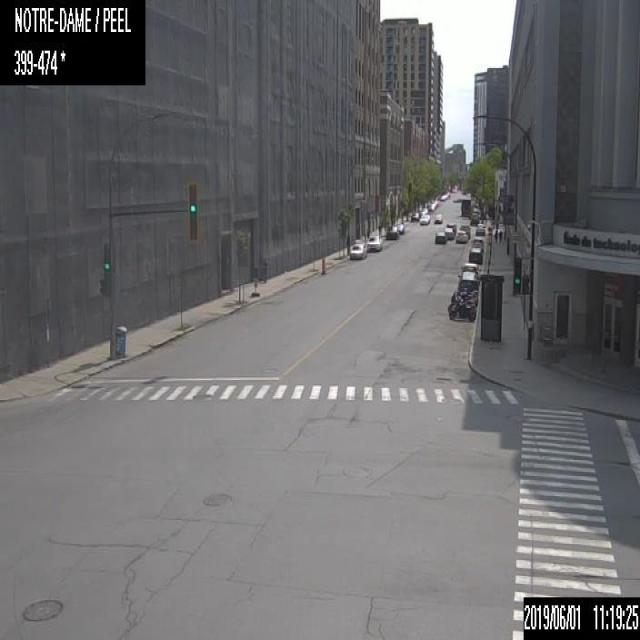construction: (320, 258, 326, 273)
pedestrian: (345, 233, 350, 256), (377, 221, 381, 236), (498, 230, 502, 242), (494, 228, 497, 243)
vehicle: (446, 291, 476, 312), (448, 300, 475, 320), (457, 270, 478, 292), (349, 239, 366, 258), (460, 261, 478, 274), (468, 246, 482, 262), (366, 236, 381, 250), (384, 225, 398, 239), (470, 237, 484, 250), (460, 199, 470, 216), (455, 230, 467, 242), (458, 224, 470, 236), (434, 231, 446, 243), (443, 226, 454, 238), (468, 212, 479, 224), (474, 222, 484, 234), (446, 222, 456, 232), (419, 213, 429, 223), (395, 222, 403, 233), (434, 214, 442, 222), (410, 212, 418, 220), (427, 203, 433, 210), (421, 207, 427, 213)
